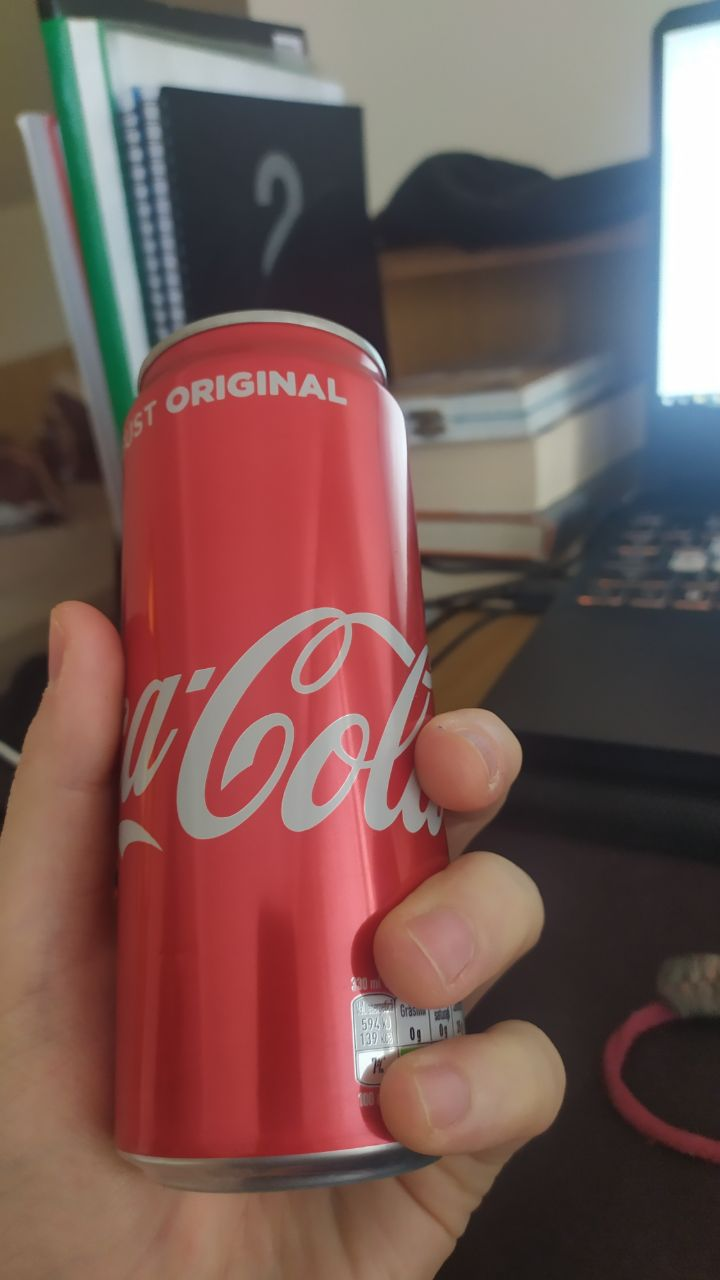Can: (112, 301, 445, 1191)
